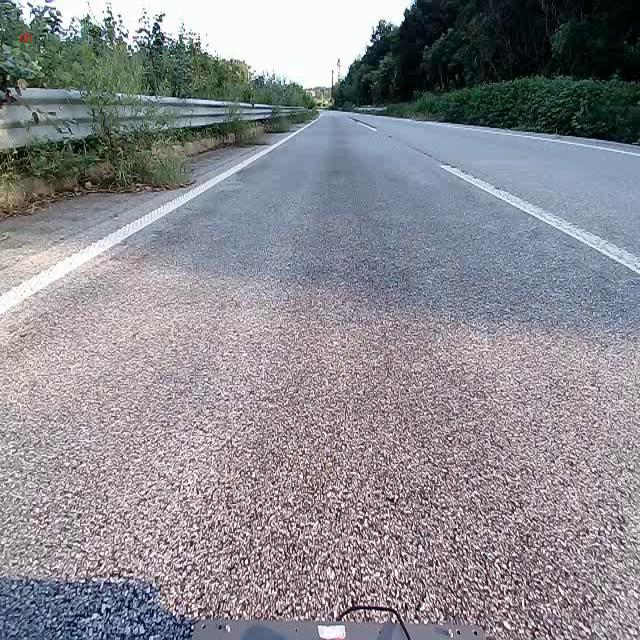Lane: (0, 112, 322, 323), (0, 116, 319, 316), (347, 100, 640, 303), (438, 160, 639, 276), (391, 113, 639, 157), (350, 118, 377, 131)
